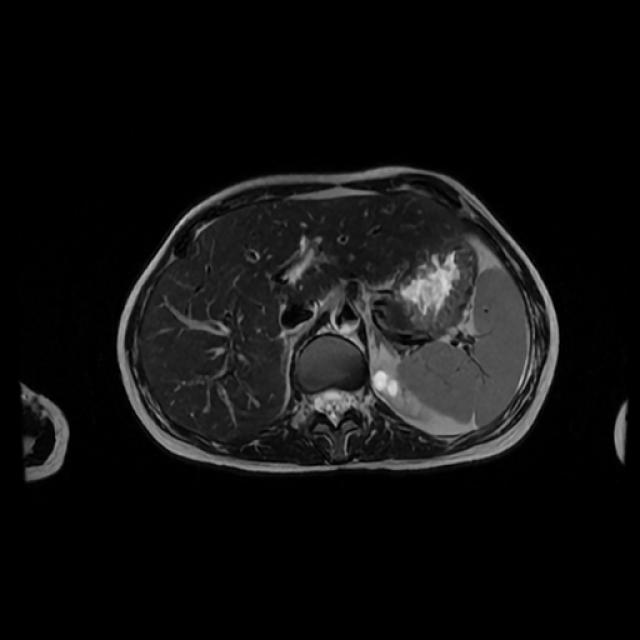sol: (373, 365, 428, 419)
